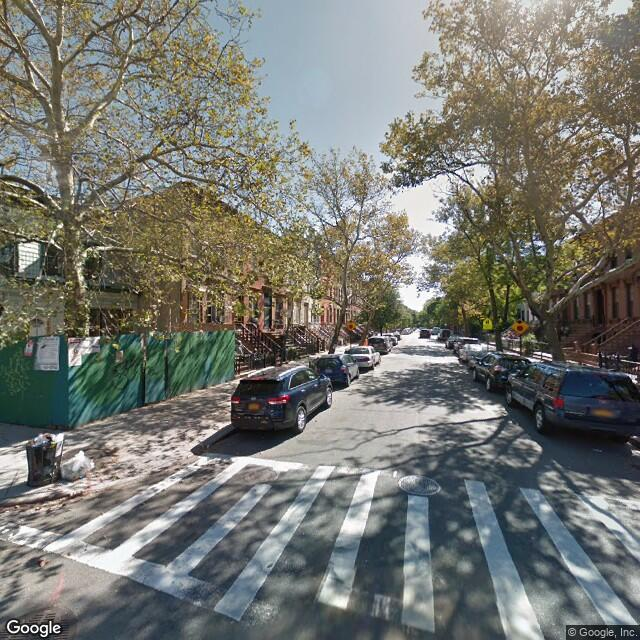litter: (63, 450, 91, 483)
